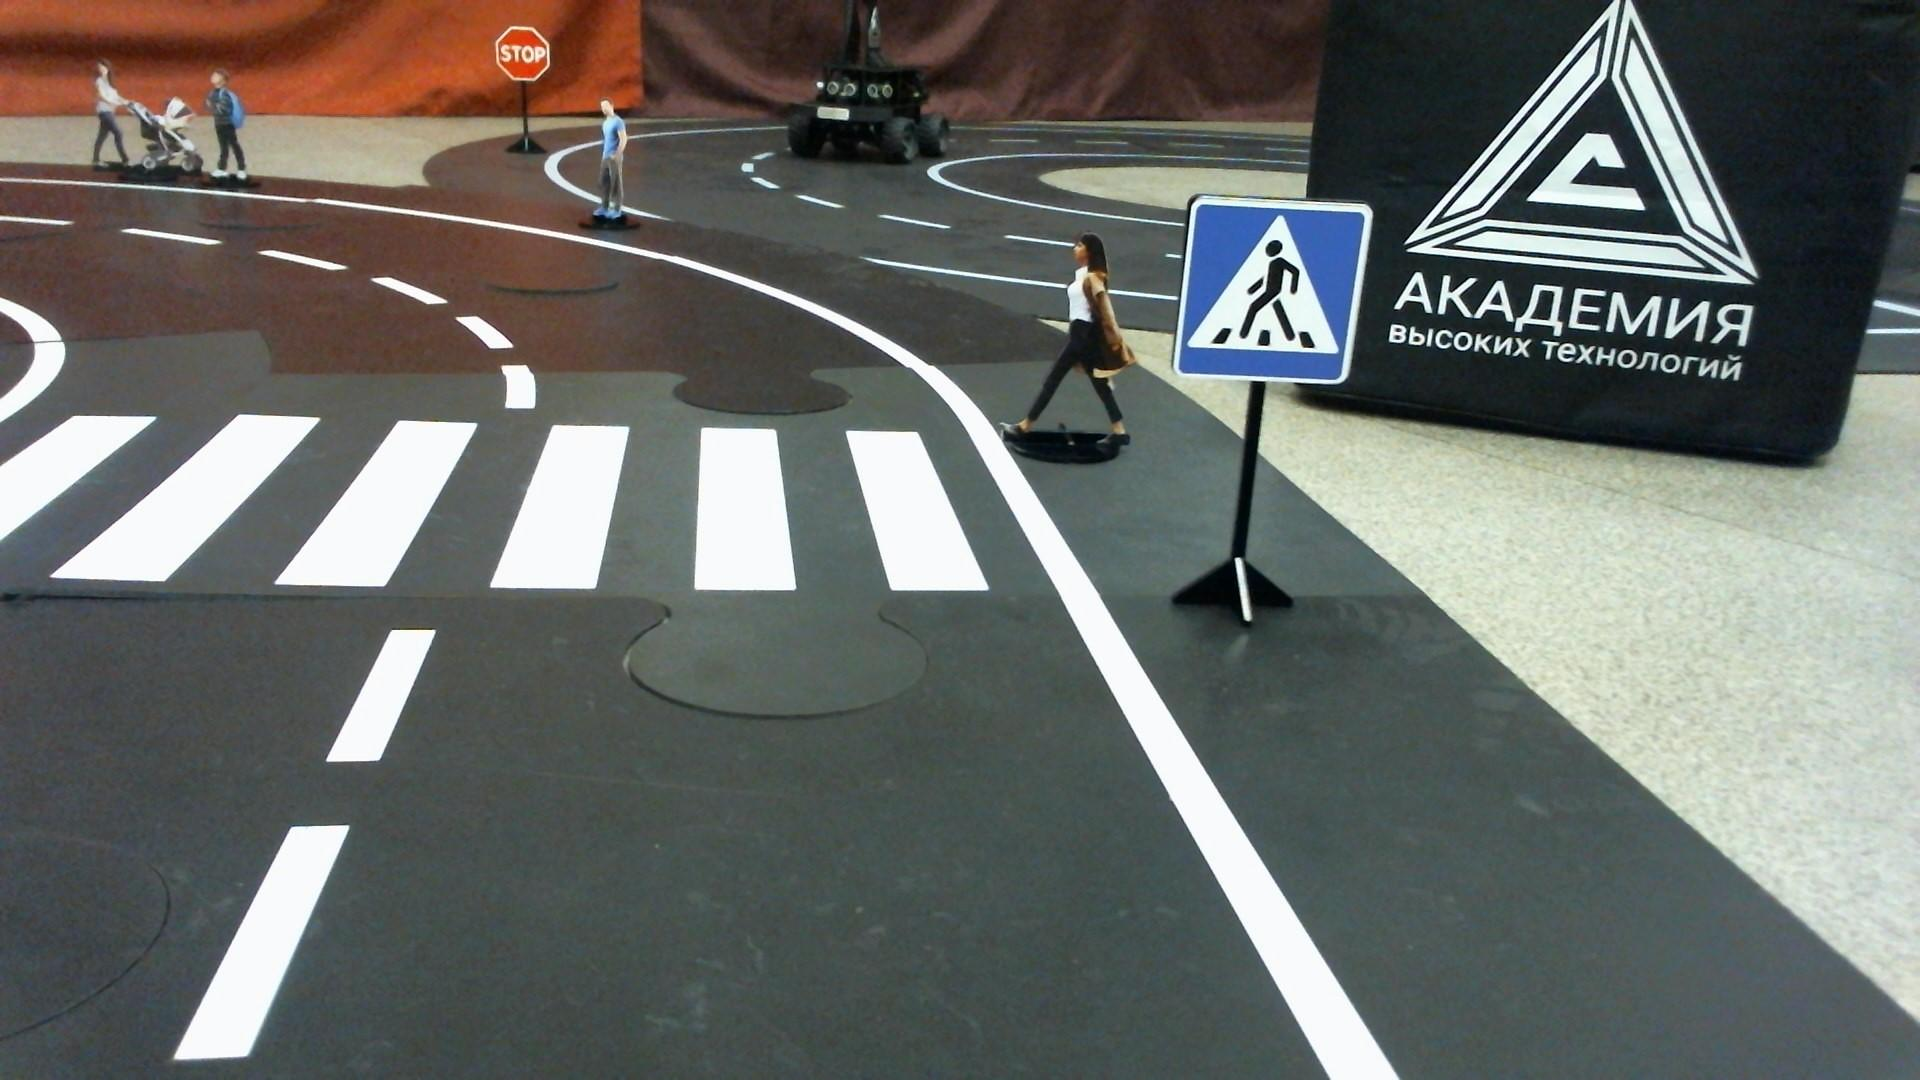crossing: (0, 401, 1036, 599)
person: (992, 227, 1137, 465), (87, 60, 195, 183), (577, 97, 643, 227), (200, 67, 255, 183)
